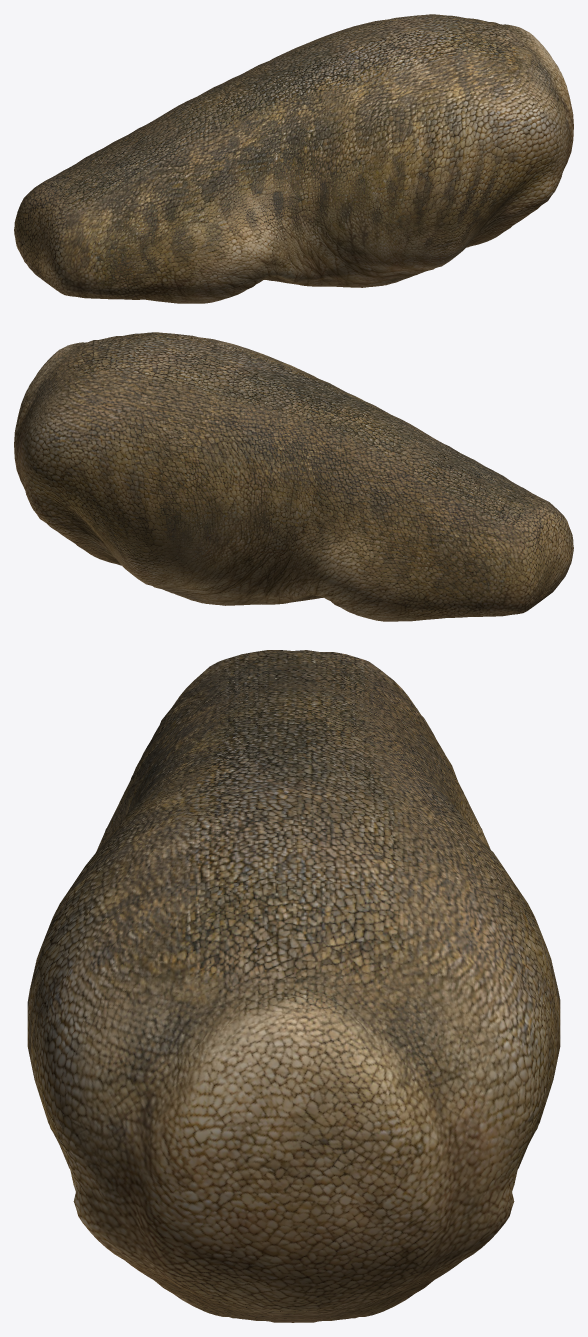
The model's file is body.glb.
The picture shows the model from 3 angles, top to bottom: view 1: azimuth 30°, elevation 25°; view 2: azimuth 150°, elevation 25°; view 3: azimuth 270°, elevation 25°; orthographic projection. The views are drawn at different scales.
Visible parts, largest first — view 1: tripo_node_d6624dbf-7375-4f2b-b618-32a4188bed6d; view 2: tripo_node_d6624dbf-7375-4f2b-b618-32a4188bed6d; view 3: tripo_node_d6624dbf-7375-4f2b-b618-32a4188bed6d.
Boxes of the visible parts, x1,y1,x2,y2 form: tripo_node_d6624dbf-7375-4f2b-b618-32a4188bed6d: (14, 14, 573, 303); tripo_node_d6624dbf-7375-4f2b-b618-32a4188bed6d: (14, 332, 573, 621); tripo_node_d6624dbf-7375-4f2b-b618-32a4188bed6d: (27, 650, 560, 1322).
Size of the model in its own units: 0.998 by 0.4434 by 0.4512.
Materials: 1 (1 with a texture image).
